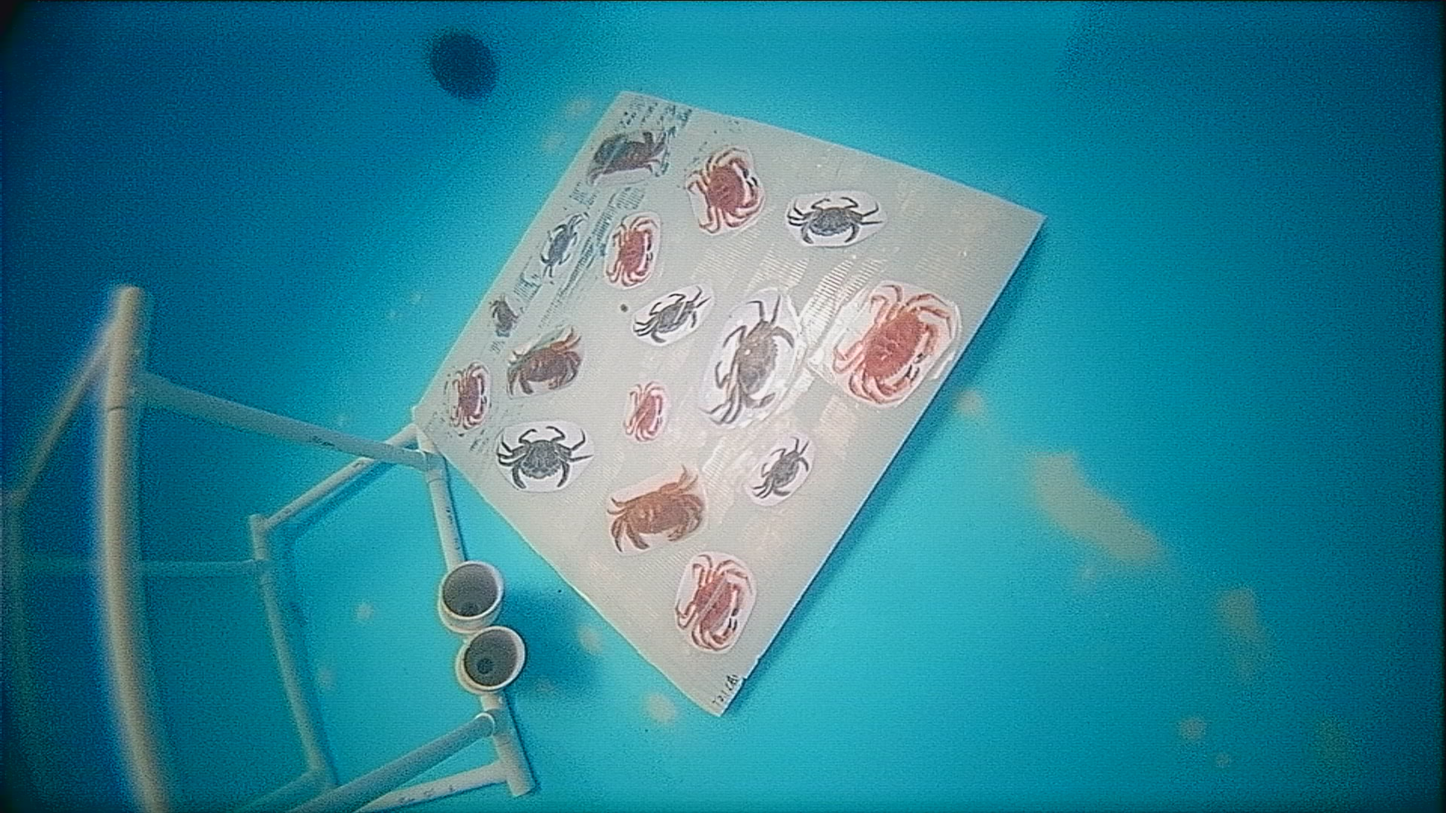GreenCrab: (706, 294, 794, 425), (499, 425, 591, 489), (787, 196, 882, 243), (635, 288, 708, 343), (754, 438, 808, 499), (538, 213, 586, 279)
